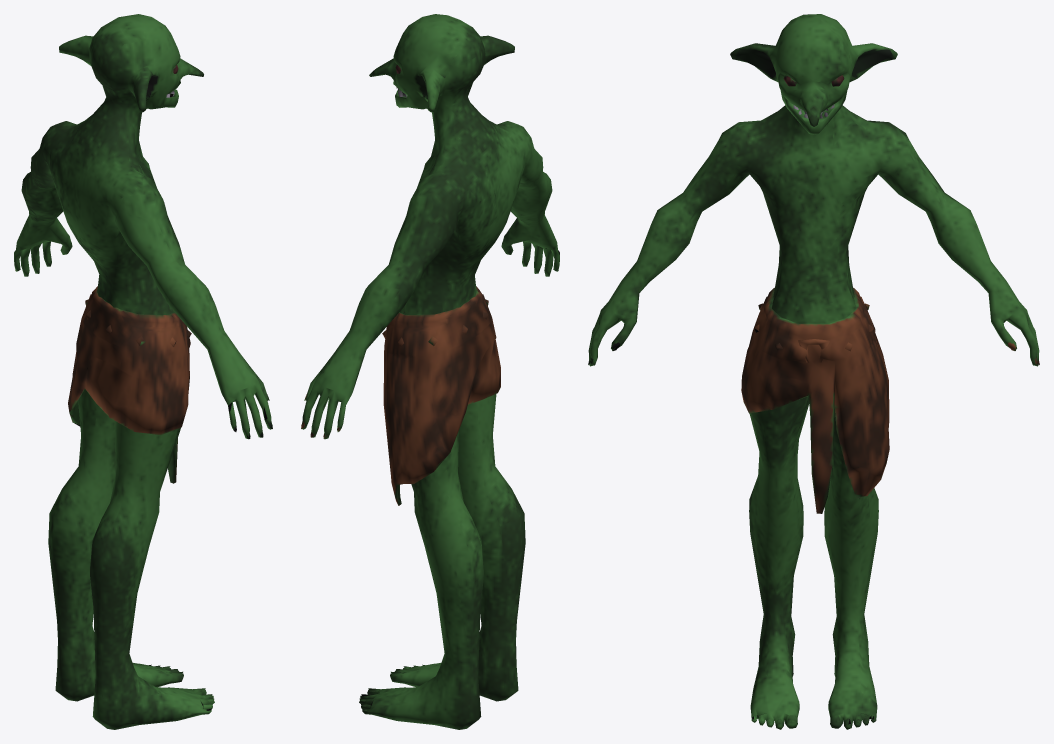
Rendered from Гоблин.fbx.
3 views of the same model, side by side, from view 1: azimuth 30°, elevation 25°; view 2: azimuth 150°, elevation 25°; view 3: azimuth 270°, elevation 25° (orthographic).
Visible parts, largest first — view 1: low poly body; view 2: low poly body; view 3: low poly body.
Boxes of the visible parts, bbox=[...] form: low poly body: bbox=[14, 14, 272, 729]; low poly body: bbox=[301, 14, 559, 729]; low poly body: bbox=[588, 14, 1039, 729].
Size of the model in its own units: 0.2047 by 1.01 by 0.6042.
Materials: 1 (1 with a texture image).
